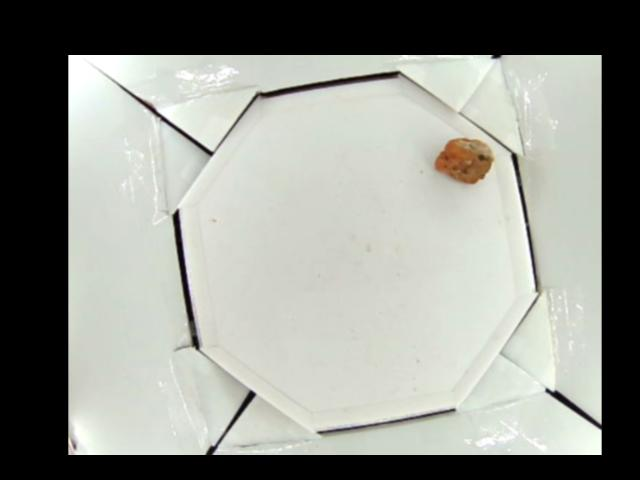Brisk: (432, 136, 494, 183)
